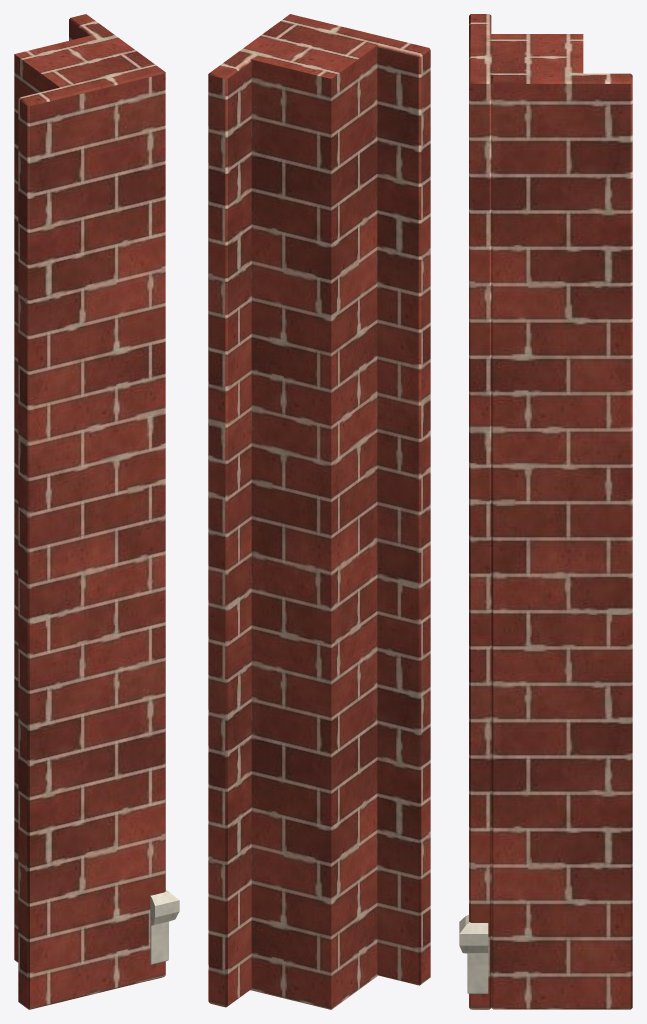
File: o_corner_u1.glb
3 views of the same model, side by side, from view 1: azimuth 30°, elevation 25°; view 2: azimuth 150°, elevation 25°; view 3: azimuth 270°, elevation 25° (orthographic). The views are drawn at different scales.
Parts seen in each view (by area): view 1: o_corner_u1_brick, o_corner_u1_trim; view 2: o_corner_u1_brick; view 3: o_corner_u1_brick, o_corner_u1_trim.
Boxes of the visible parts, x1,y1,x2,y2 form: o_corner_u1_brick: (14,14,165,1009); o_corner_u1_trim: (149,890,179,980); o_corner_u1_brick: (208,14,430,1009); o_corner_u1_brick: (469,14,632,1009); o_corner_u1_trim: (459,915,488,1009).
Size of the model in its own units: 0.54 by 3.2 by 0.54.
Materials: 2 (2 with a texture image).
